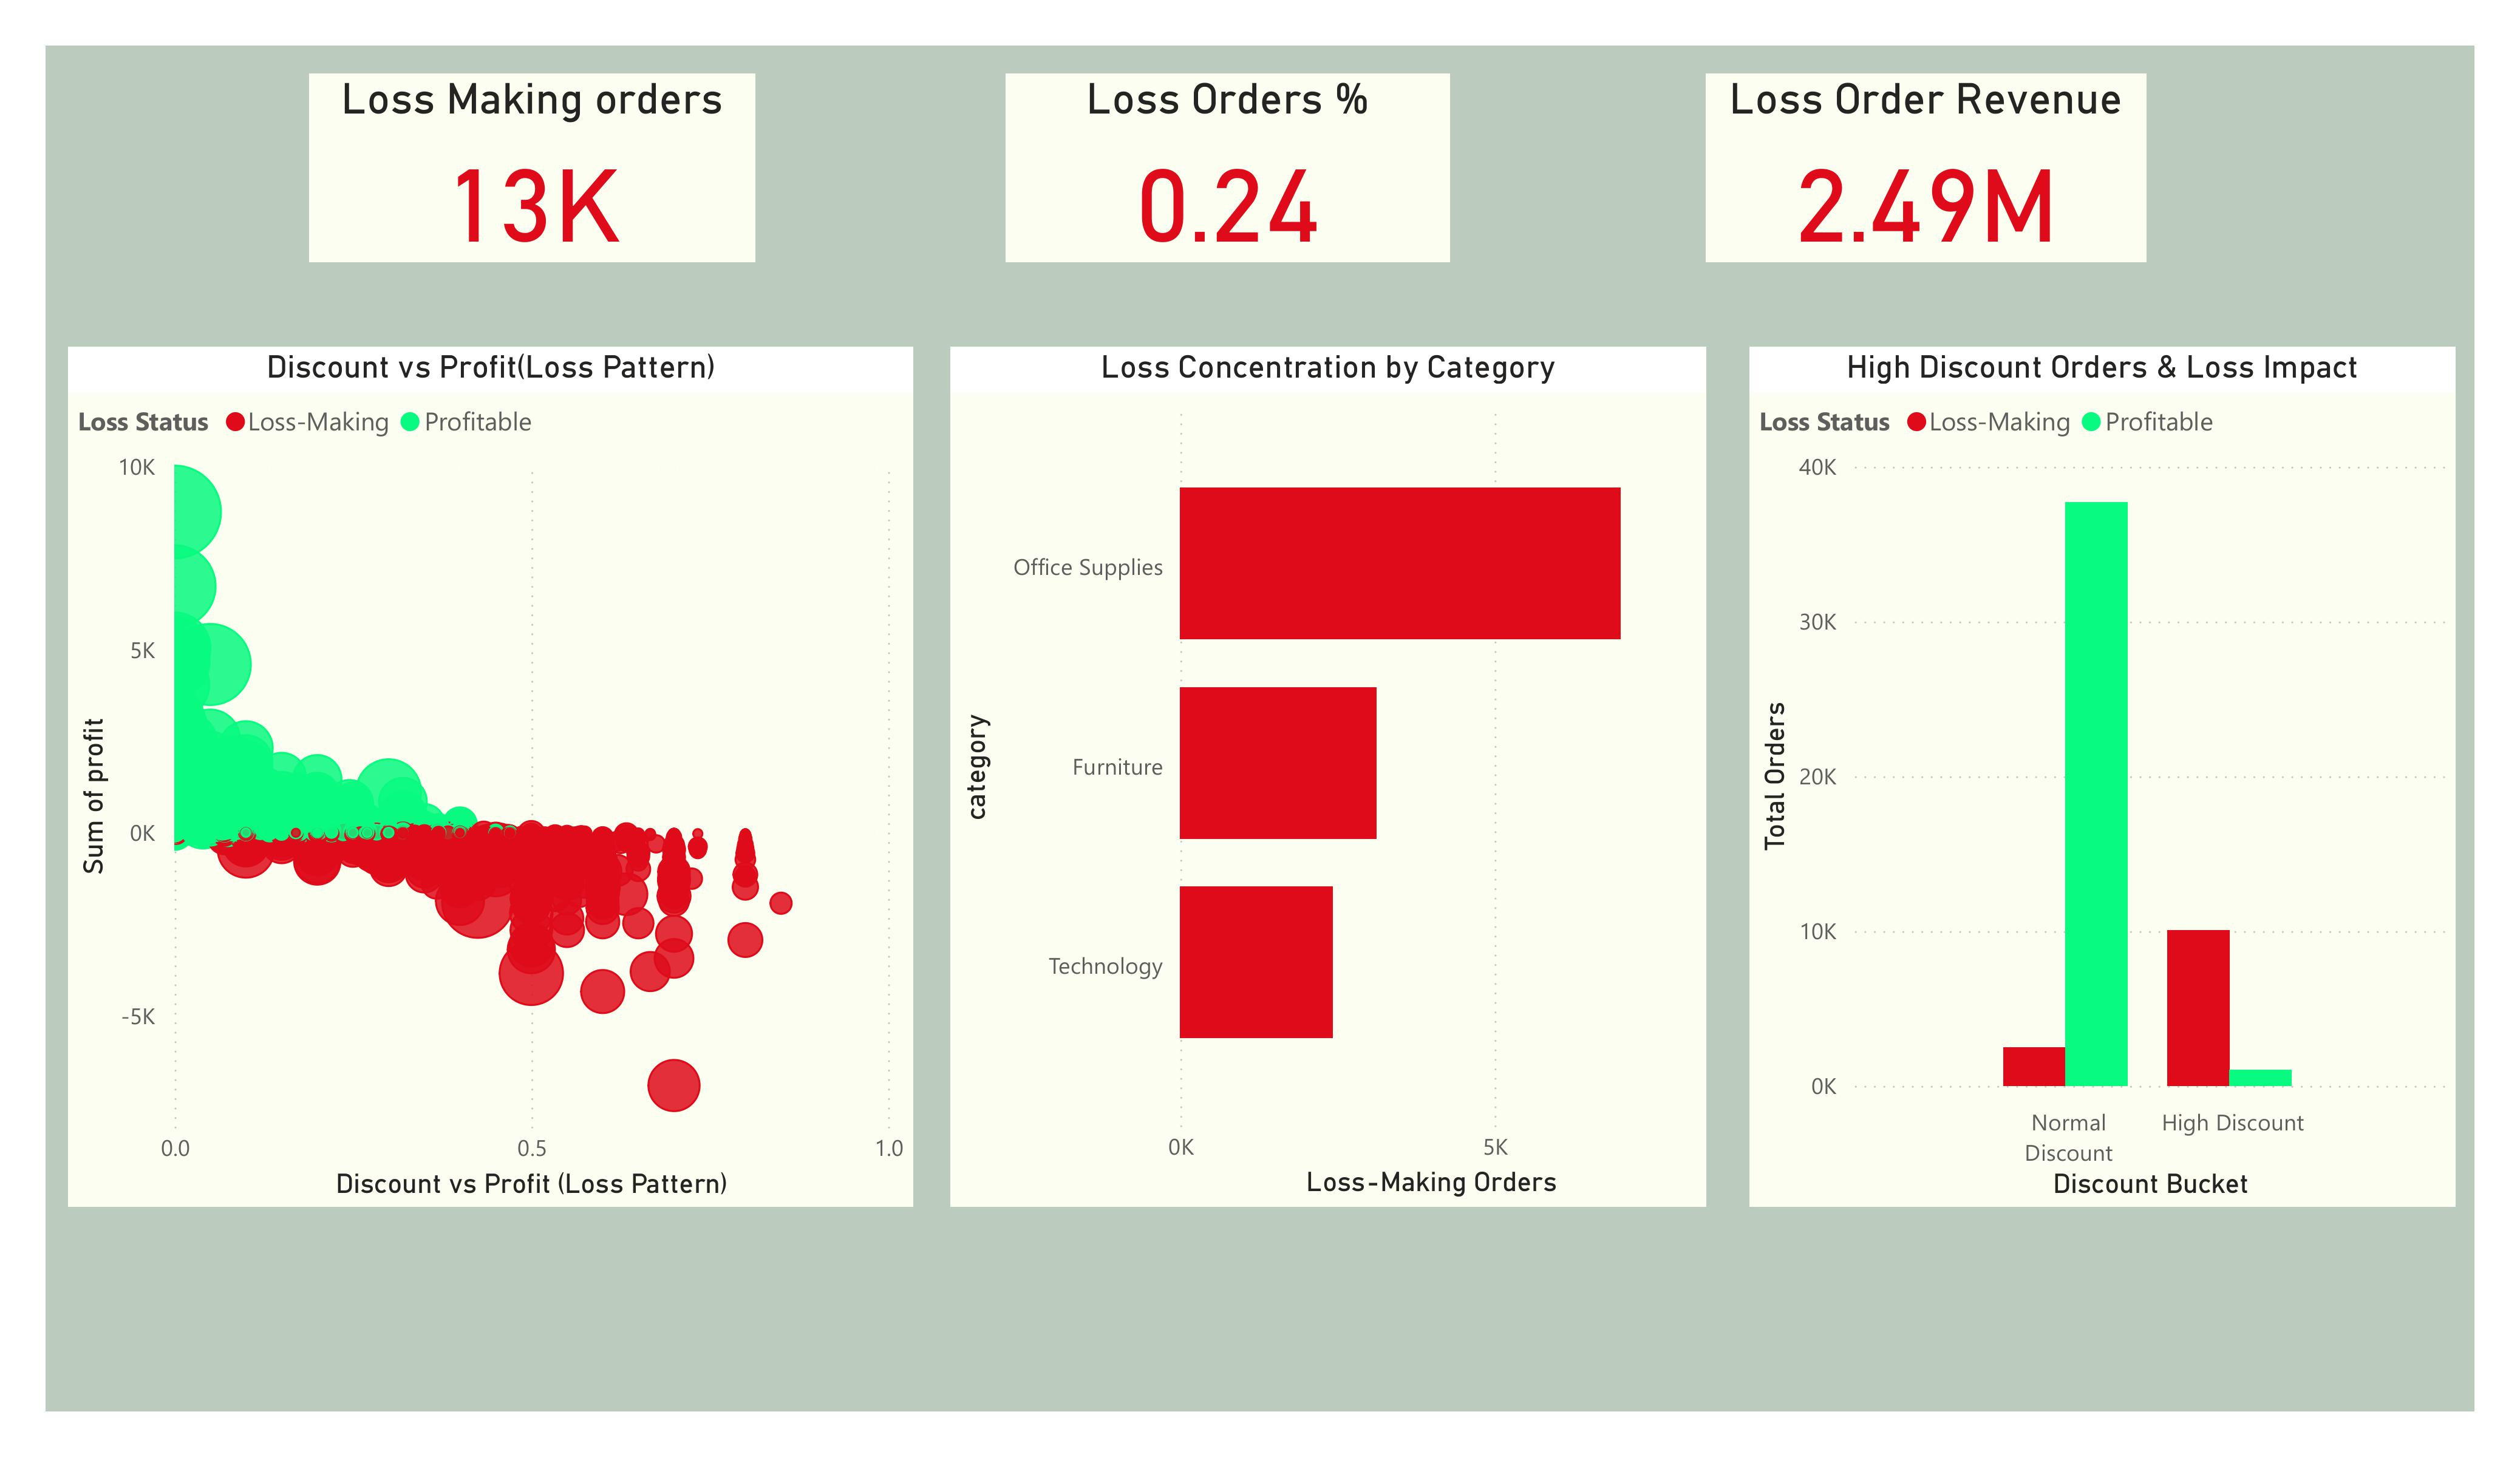

This screenshot's page, from the dashboard's own definition file:
{"tool":"powerbi","page":{"name":"Profit Leakage Analysis","canvas":[1280,720],"ordinal":1},"visuals":[{"type":"card","title":"Loss Making orders","fields":{"Values":["superstore_cleaned.Loss-Making Orders"]},"box":[139.3,15.1,234.7,98.4],"z":0},{"type":"card","title":"Loss Orders %","fields":{"Values":["superstore_cleaned.Loss Order %"]},"box":[505.7,15.1,234.7,98.4],"z":1000},{"type":"card","title":"Loss Order Revenue","fields":{"Values":["superstore_cleaned.Loss Revenue"]},"box":[875.2,15.1,231.7,98.4],"z":2000},{"type":"scatterChart","title":"Discount vs Profit(Loss Pattern)","fields":{"Series":["superstore_cleaned.Loss Status"],"X":["Avg(superstore_cleaned.discount)"],"Y":["Sum(superstore_cleaned.profit)"],"Size":["Sum(superstore_cleaned.sales)"],"Category":["superstore_cleaned.order_id"]},"box":[12.1,159,445.2,452.7],"z":3000},{"type":"clusteredColumnChart","title":"High Discount Orders & Loss Impact","fields":{"Series":["superstore_cleaned.Loss Status"],"Category":["superstore_cleaned.Discount Bucket"],"Y":["superstore_cleaned.Total Orders"]},"box":[897.9,159,372.5,452.7],"z":4000},{"type":"clusteredBarChart","title":"Loss Concentration by Category","fields":{"Category":["superstore_cleaned.category"],"Y":["superstore_cleaned.Loss-Making Orders"]},"box":[477,159,398.2,452.7],"z":5000}]}

Visuals, with their boxes in screenshot pixels (x1, y1, x2, y2):
"Loss Making orders" card: {"left": 310, "top": 74, "right": 755, "bottom": 261}
"Loss Orders %" card: {"left": 1005, "top": 74, "right": 1451, "bottom": 261}
"Loss Order Revenue" card: {"left": 1706, "top": 74, "right": 2146, "bottom": 261}
"Discount vs Profit(Loss Pattern)" scatterChart: {"left": 69, "top": 347, "right": 913, "bottom": 1206}
"High Discount Orders & Loss Impact" clusteredColumnChart: {"left": 1749, "top": 347, "right": 2456, "bottom": 1206}
"Loss Concentration by Category" clusteredBarChart: {"left": 951, "top": 347, "right": 1706, "bottom": 1206}
